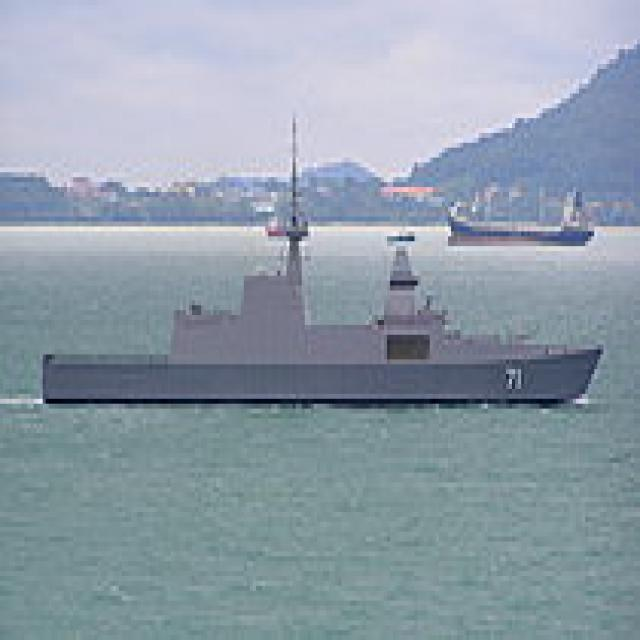Warship: (36, 103, 604, 404)
